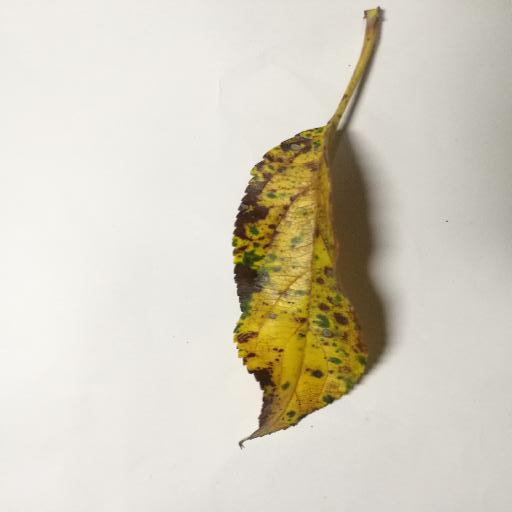Brown_Spot: (233, 169, 356, 383)
